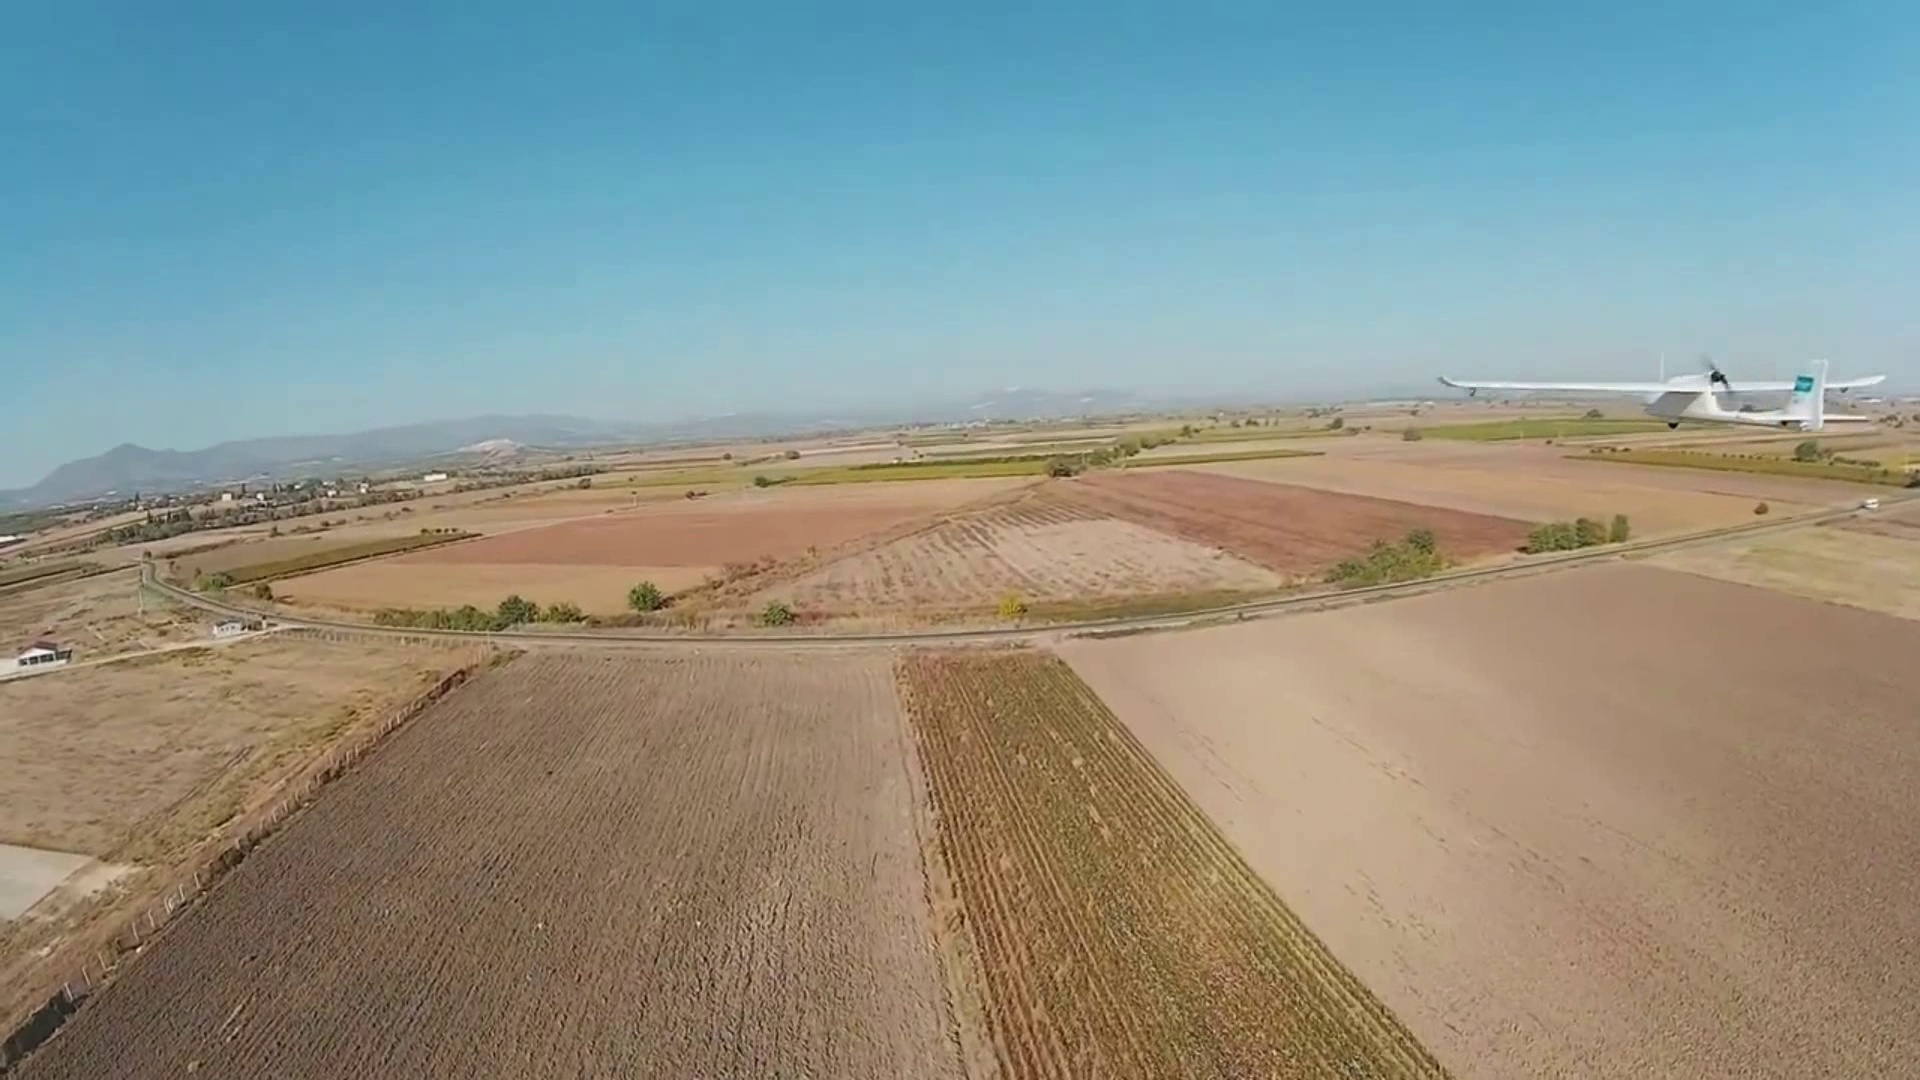airplane: (1436, 356, 1890, 436)
